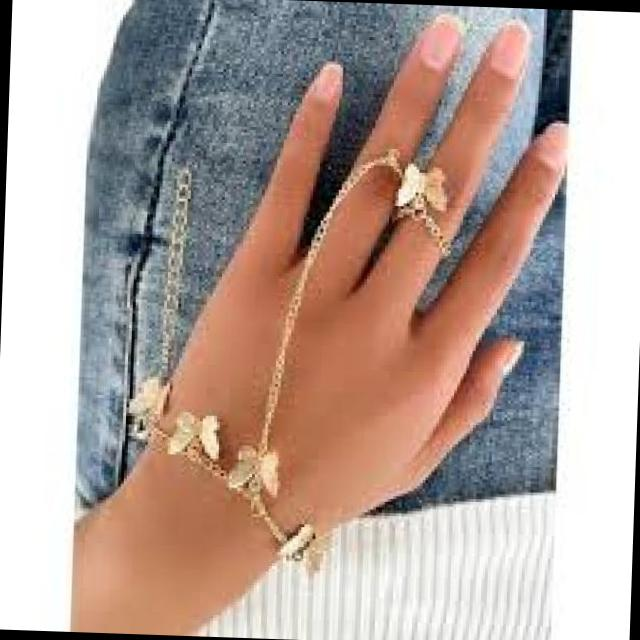Nail: (486, 18, 531, 80), (411, 13, 459, 69), (532, 120, 568, 171), (306, 58, 344, 100), (502, 341, 522, 375)
